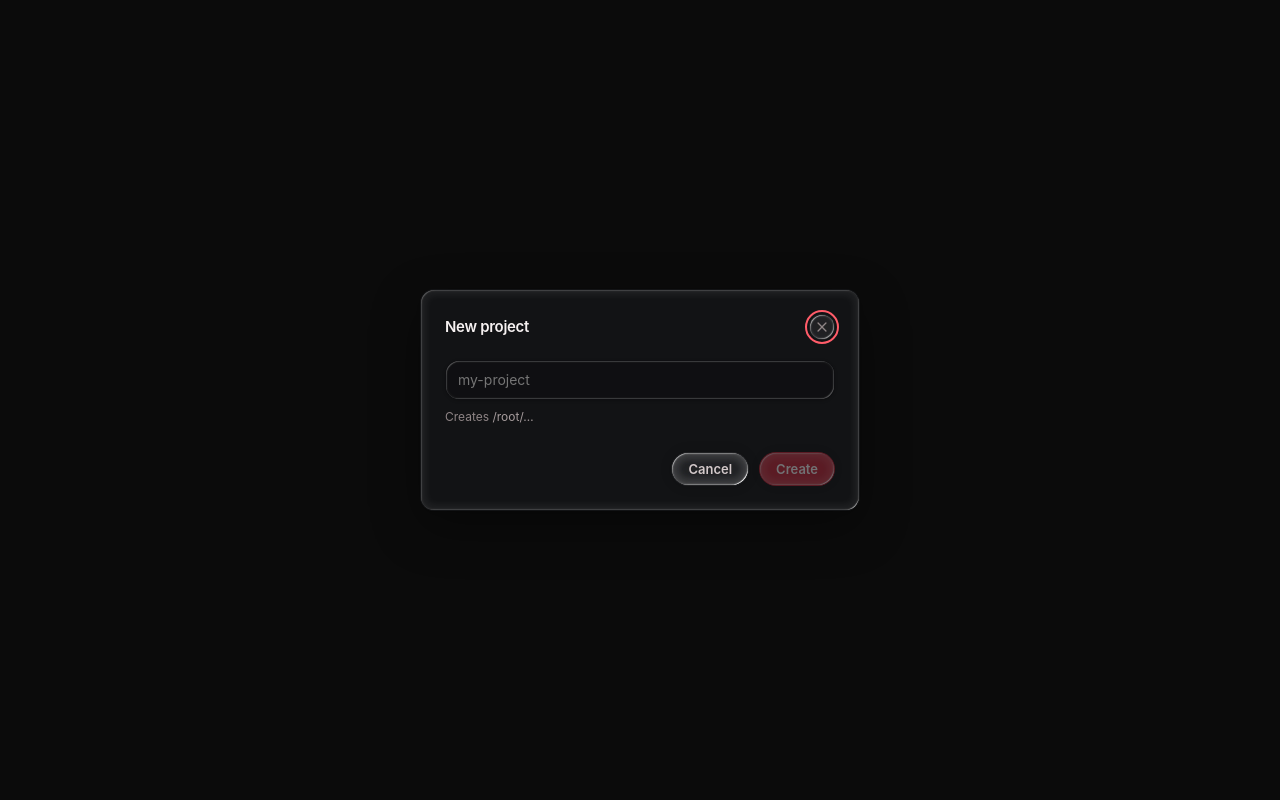
it: NewProjectModal › keeps other failures as errors, with no open offer
Type "ok" into the field with placeholder "my-project". click: (640, 380)
box: [445,360,835,400]
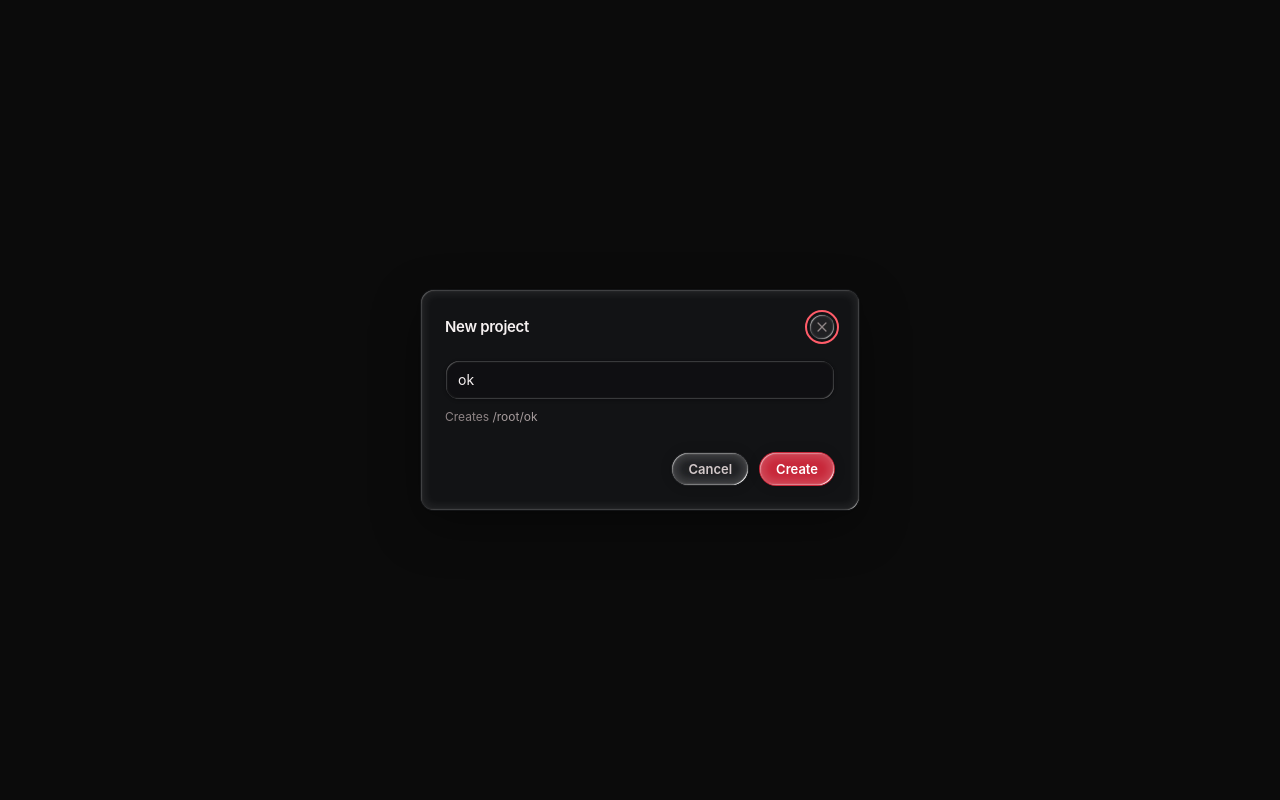
Click the button "Create". click: click(797, 469)
box: [759,452,835,486]
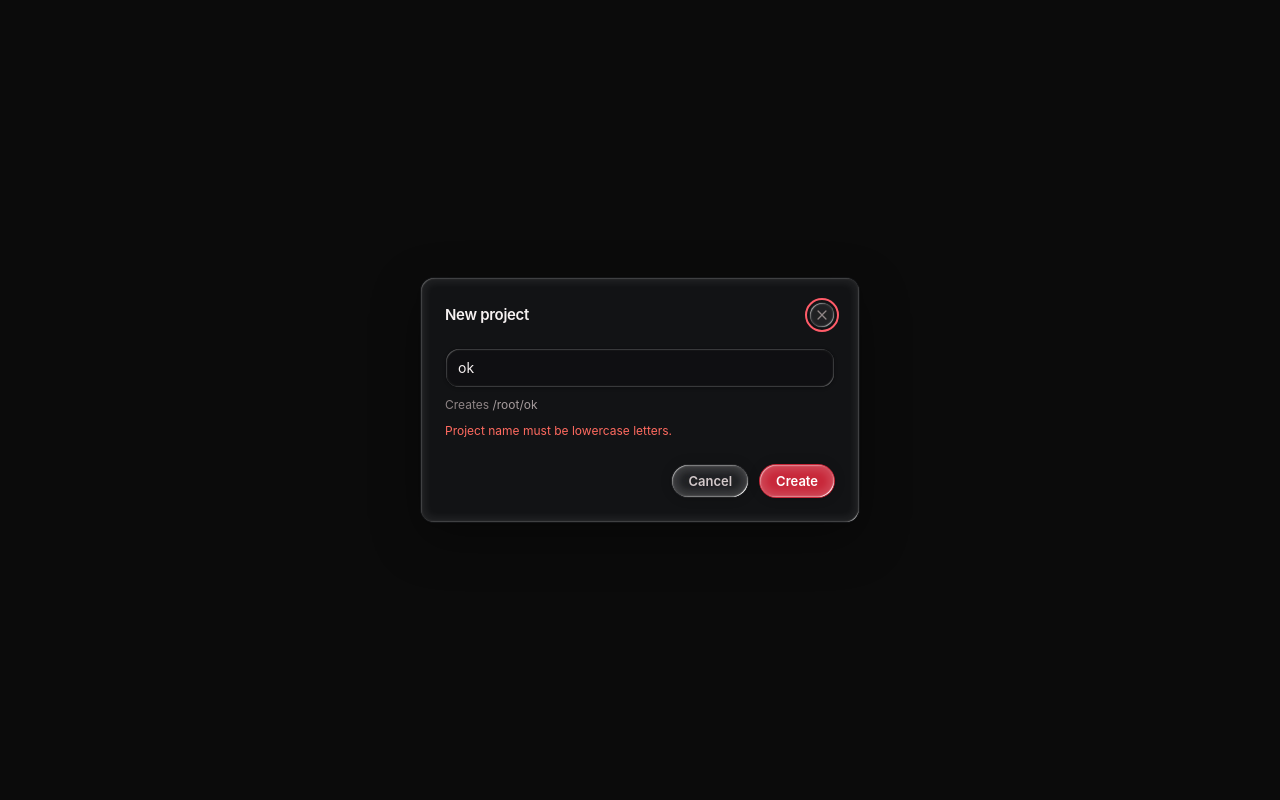
Expected: the button "Create" is shown, [759,464,835,498]
Expected: the message reads "Project name must be lowercase letters.", [445,423,672,438]
